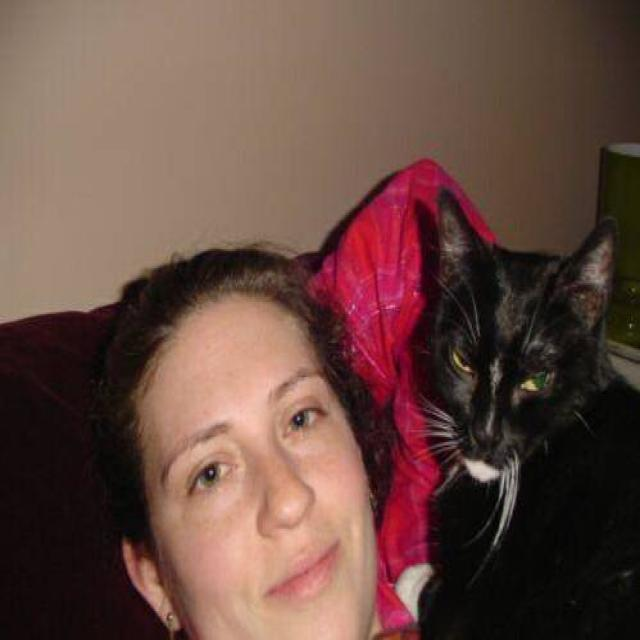cat: (408, 184, 639, 638)
